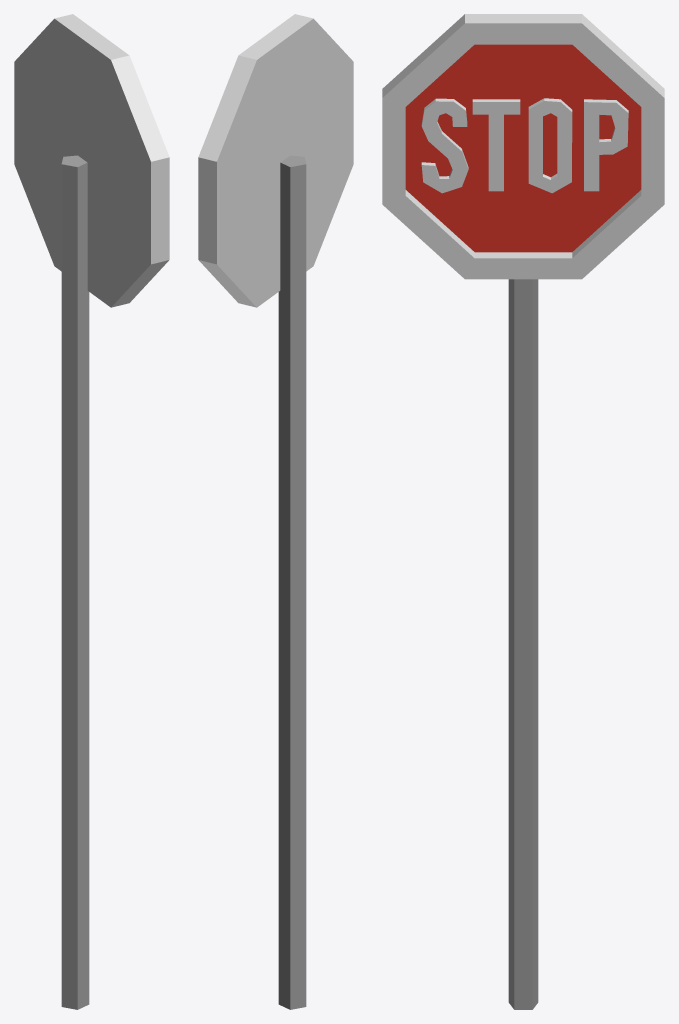
Rendered from sign_stop.glb.
3 renders of one model, left to right at view 1: azimuth 30°, elevation 25°; view 2: azimuth 150°, elevation 25°; view 3: azimuth 270°, elevation 25°, orthographic. The views are drawn at different scales.
Visible parts, largest first — view 1: Stop; view 2: Stop; view 3: Stop.
Boxes of the visible parts, x1,y1,x2,y2 form: Stop: (14, 14, 169, 1009); Stop: (198, 14, 353, 1009); Stop: (382, 14, 664, 1009).
Size of the model in its own units: 0.0929 by 2.15 by 0.5538.
